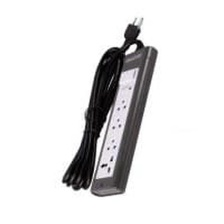three_eye_plug: (88, 43, 161, 200)
